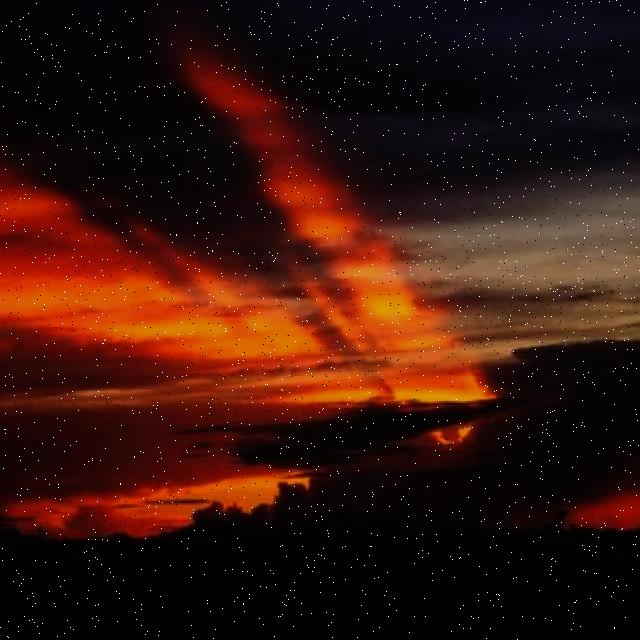Cu: (1, 99, 640, 485)
